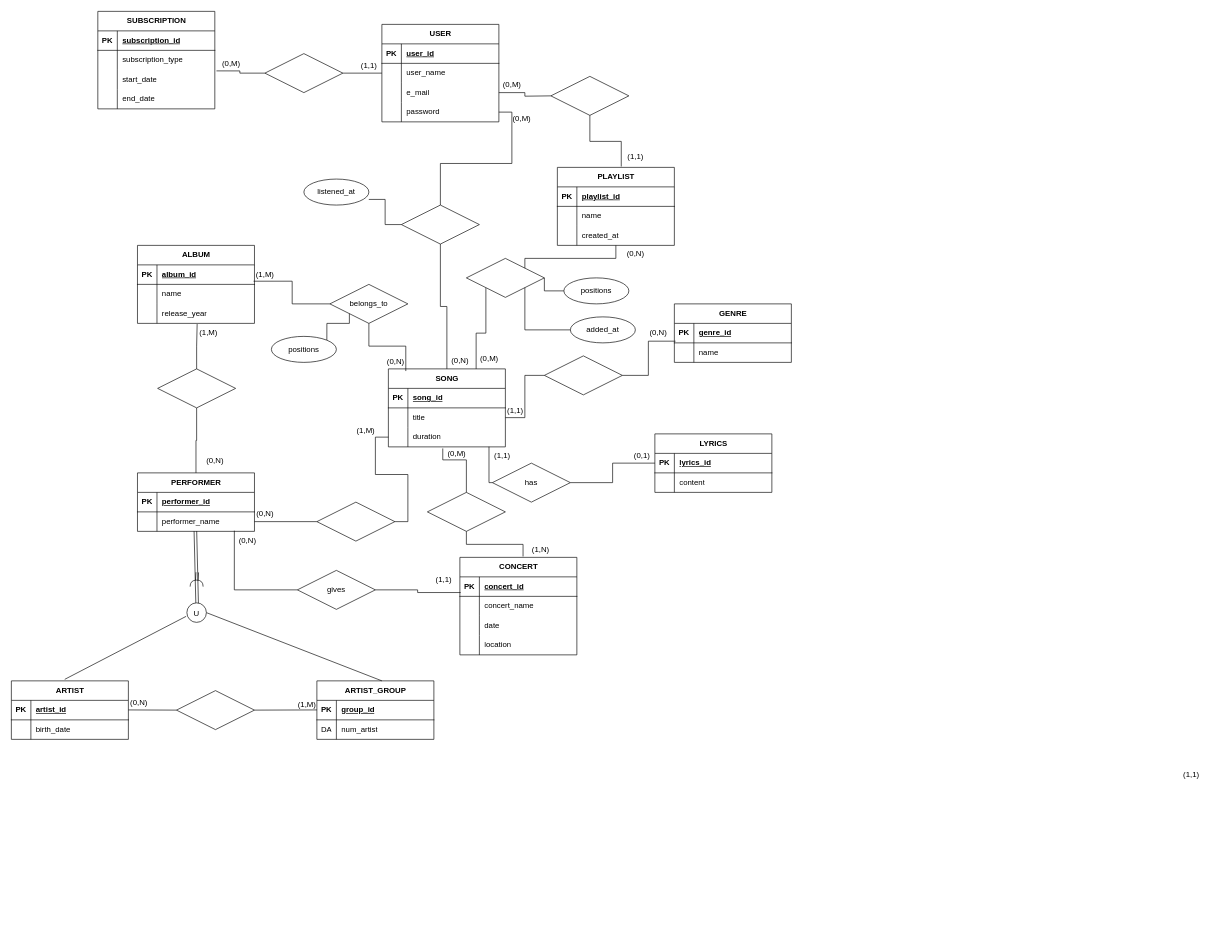
Image size: 1219x946. Some labels were removed from this diagram. Here are the shapes that lost their labels. From the top down, the centre of each, then its label:
point 303,73: subscribes
point 589,95: creates
point 440,224: listens
point 505,277: contains
point 196,388: released_by
point 583,375: categorized_as
point 355,521: performed_by
point 466,511: sung_at
point 215,710: is_member_of
